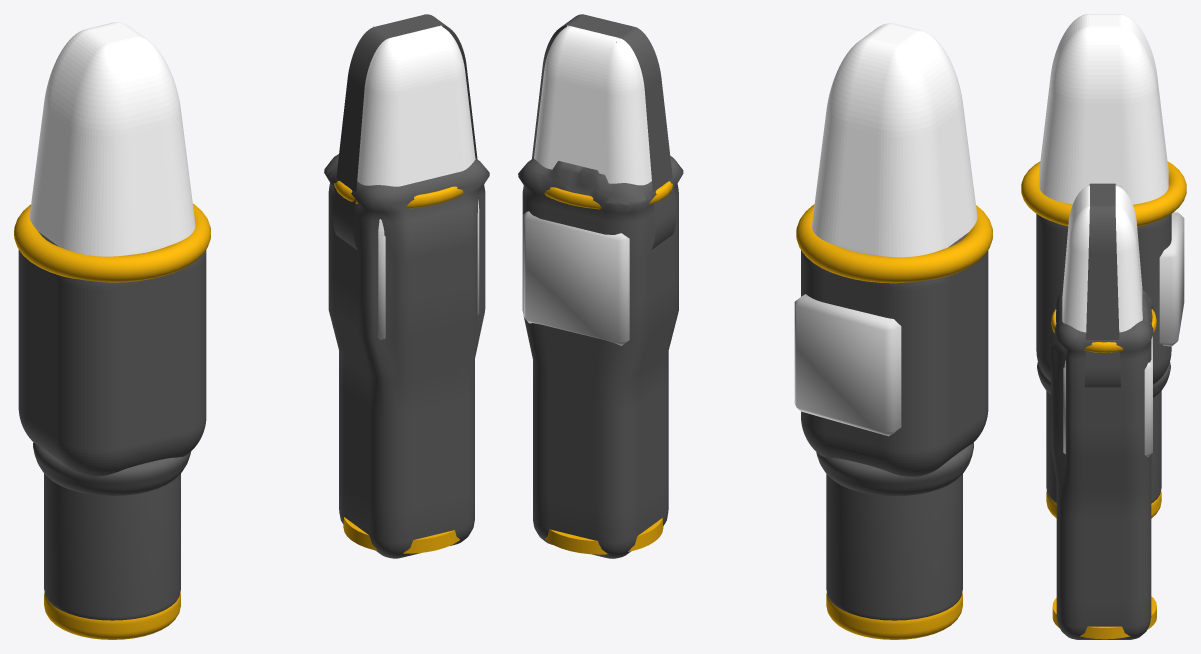
File: Mic.glb
3 views of the same model, side by side, from view 1: azimuth 30°, elevation 25°; view 2: azimuth 150°, elevation 25°; view 3: azimuth 270°, elevation 25° (orthographic). The views are drawn at different scales.
Visible parts, largest first — view 1: Cube, Cube_2_3, Cube_1_2, Base, Cube_1, Tore_2, Cube_3, Transition1_1, Base_1, Cylindre, Cube_2, Tore; view 2: Cube, Cube_1_2, Cube_2_3, Base, Cube_1, Cube_2_2, Cube_2, Tore_2, Cube_3, Transition1_1, Base_1, Cylindre (+1 smaller); view 3: Cube, Cube_1_2, Cube_1, Cube_2_3, Cube_3, Tore_2, Cube_2_2, Base, Cube_2, Cylindre, Tore, Transition1_1 (+1 smaller).
Part boxes in pixels (<box>): Cube: <box>324,154,489,558</box>; Cube_2_3: <box>18,232,206,476</box>; Cube_1_2: <box>29,22,195,256</box>; Base: <box>44,473,180,620</box>; Cube_1: <box>352,25,479,239</box>; Tore_2: <box>14,203,210,282</box>; Cube_3: <box>332,14,477,250</box>; Transition1_1: <box>33,442,190,495</box>; Base_1: <box>44,592,180,639</box>; Cylindre: <box>343,517,459,553</box>; Cube_2: <box>378,212,479,339</box>; Tore: <box>334,181,463,208</box>; Cube: <box>518,156,683,558</box>; Cube_1_2: <box>812,23,977,257</box>; Cube_2_3: <box>801,232,988,476</box>; Base: <box>826,474,962,620</box>; Cube_1: <box>534,25,655,185</box>; Cube_2_2: <box>794,294,901,436</box>; Cube_2: <box>523,211,629,345</box>; Tore_2: <box>796,204,992,283</box>; Cube_3: <box>532,14,676,249</box>; Transition1_1: <box>816,442,973,496</box>; Base_1: <box>826,592,962,639</box>; Cylindre: <box>545,518,663,554</box>; Cube: <box>1051,289,1153,639</box>; Cube_1_2: <box>1039,14,1168,204</box>; Cube_1: <box>1062,186,1142,368</box>; Cube_2_3: <box>1036,214,1171,384</box>; Cube_3: <box>1084,183,1121,387</box>; Tore_2: <box>1021,161,1186,226</box>; Cube_2_2: <box>1159,212,1184,346</box>; Base: <box>1046,391,1161,503</box>; Cube_2: <box>1063,336,1152,456</box>; Cylindre: <box>1052,596,1156,639</box>; Tore: <box>1051,309,1156,352</box>; Transition1_1: <box>1037,362,1170,397</box>.
Size of the model in its own units: 7.34 by 9.15 by 2.81.
